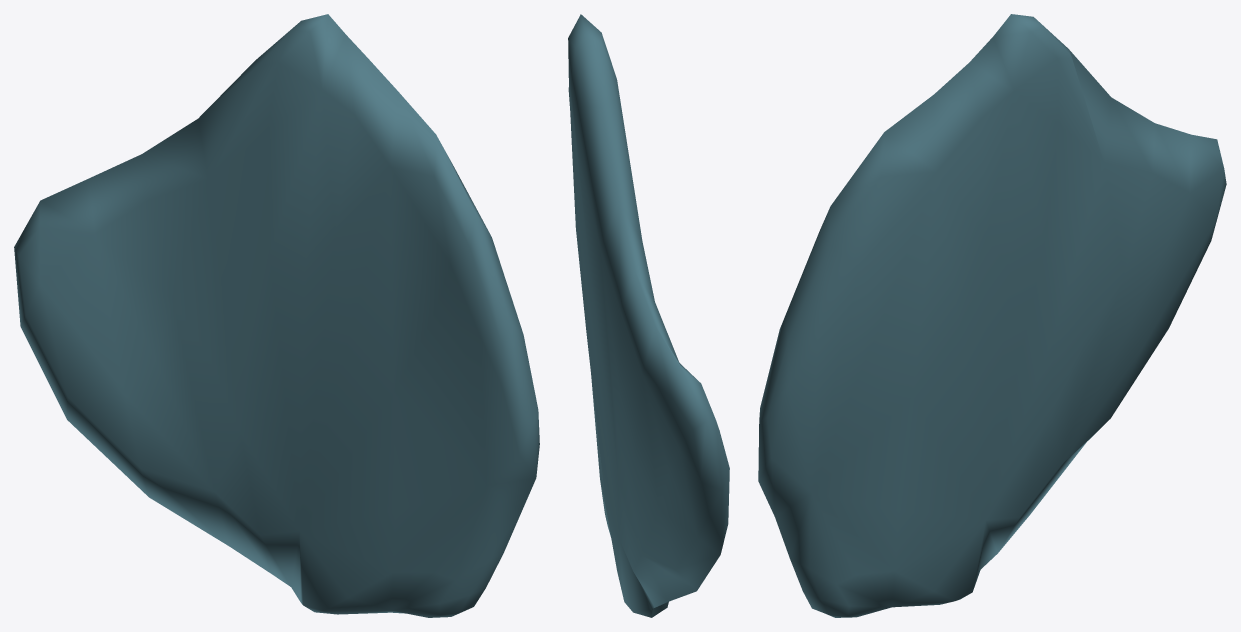
The model's file is Proximal_phalanx_hand_1st_finger_left.glb.
The picture shows the model from 3 angles, left to right: view 1: azimuth 30°, elevation 25°; view 2: azimuth 150°, elevation 25°; view 3: azimuth 270°, elevation 25°; orthographic projection. The views are drawn at different scales.
Parts seen in each view (by area): view 1: Proximal_phalanx_of_hand-1st_finger.l_Generated_Mesh_From_X3; view 2: Proximal_phalanx_of_hand-1st_finger.l_Generated_Mesh_From_X3; view 3: Proximal_phalanx_of_hand-1st_finger.l_Generated_Mesh_From_X3.
Boxes of the visible parts, x1,y1,x2,y2 form: Proximal_phalanx_of_hand-1st_finger.l_Generated_Mesh_From_X3: [14, 14, 539, 617]; Proximal_phalanx_of_hand-1st_finger.l_Generated_Mesh_From_X3: [568, 14, 729, 617]; Proximal_phalanx_of_hand-1st_finger.l_Generated_Mesh_From_X3: [758, 14, 1226, 617].
Size of the model in its own units: 0.00377 by 0.00641 by 0.00454.
